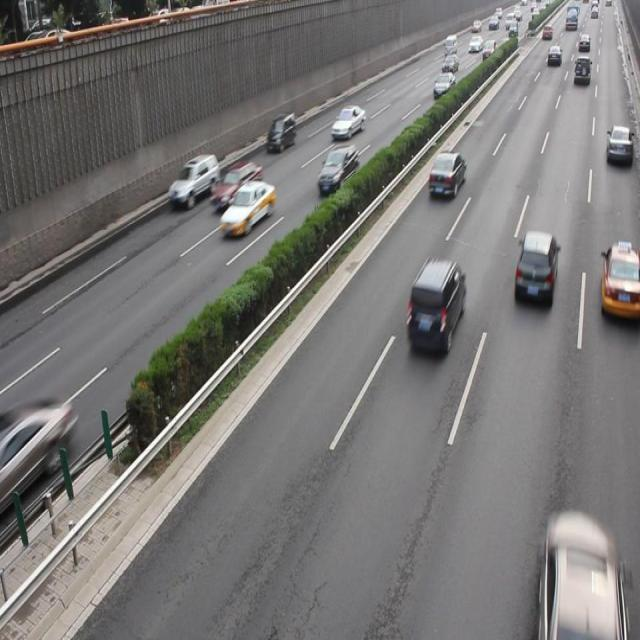car: (540, 512, 622, 640), (0, 397, 74, 503), (512, 230, 558, 306), (598, 242, 640, 321), (219, 180, 275, 235), (210, 158, 263, 210), (169, 153, 219, 207), (316, 144, 358, 194), (426, 149, 464, 199), (331, 104, 365, 139), (604, 123, 632, 165)
truck: (405, 257, 465, 352), (266, 112, 294, 150)
